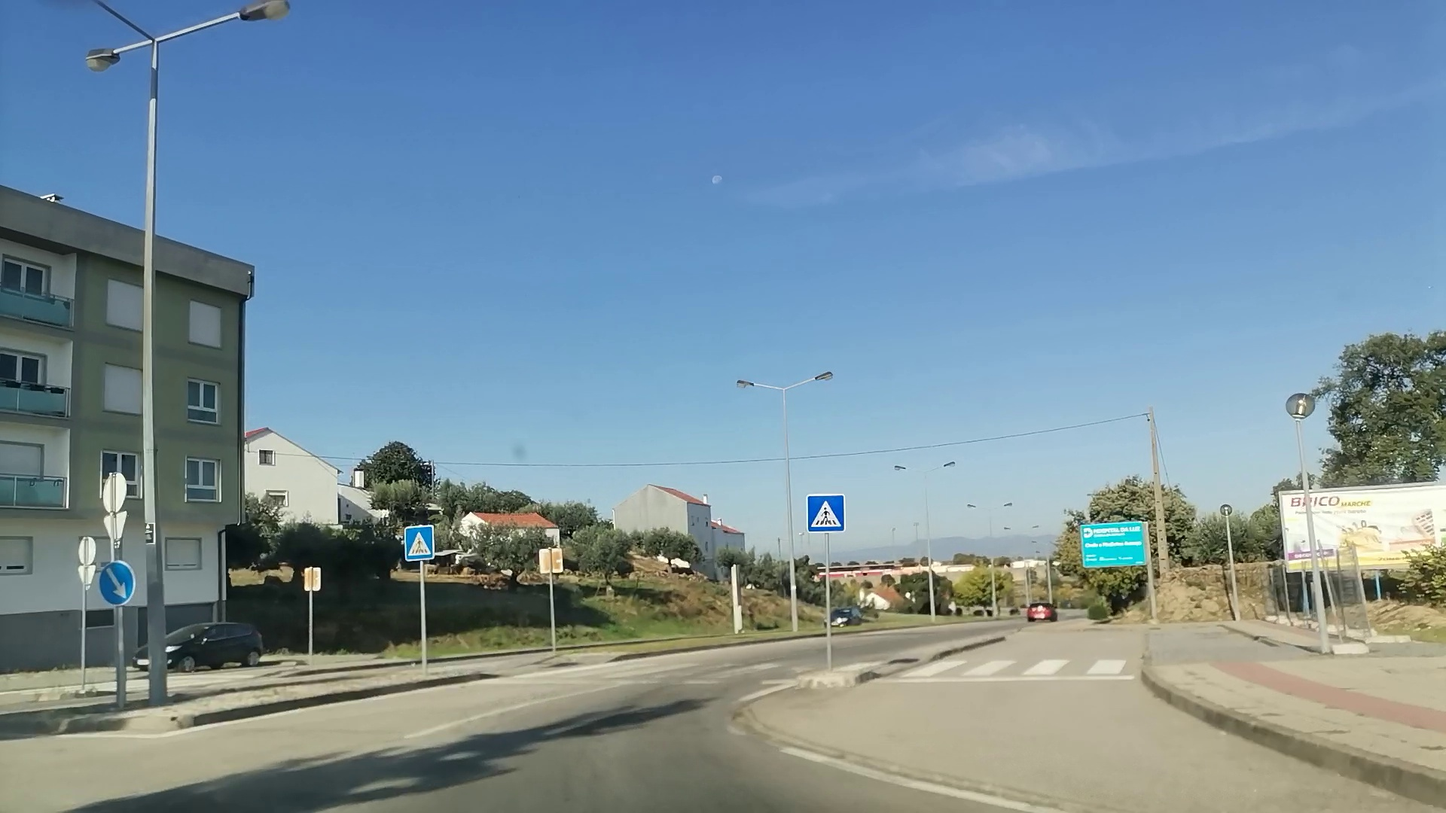Stairs: (892, 646, 1146, 703)
